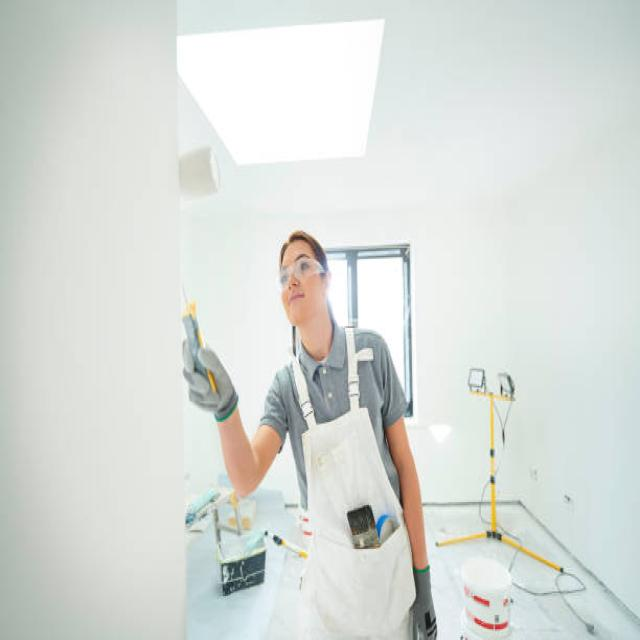gloves: (178, 298, 238, 420), (410, 564, 437, 640)
